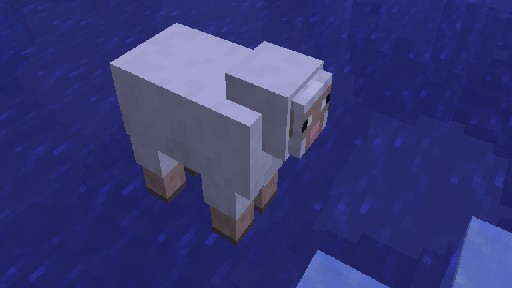sheep: (109, 22, 333, 245)
